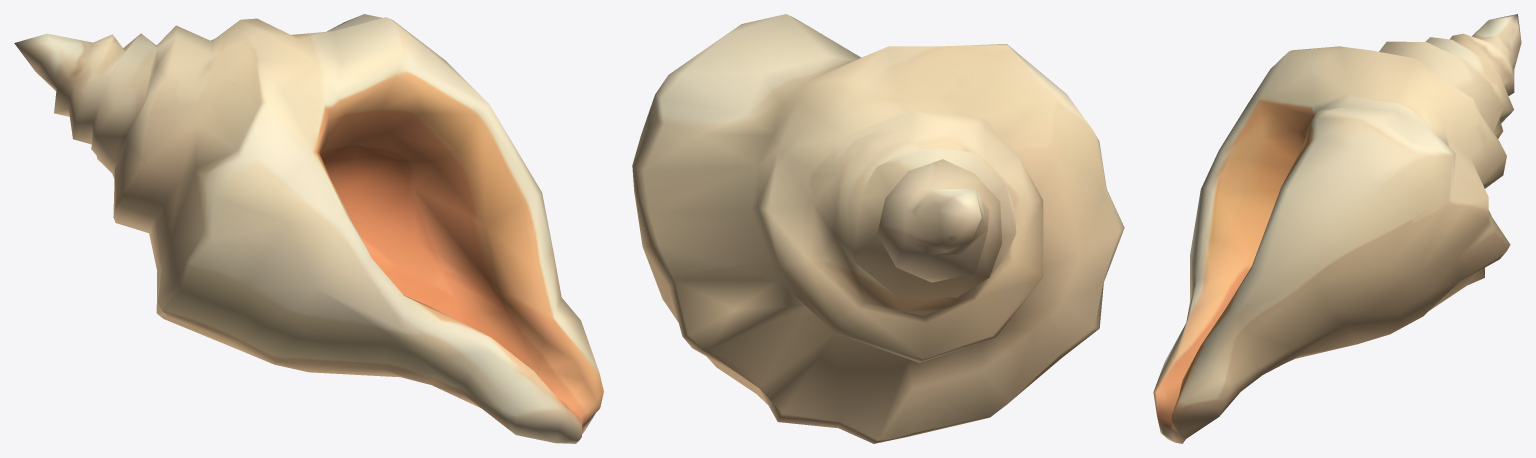
3 views of the same model, side by side, from view 1: azimuth 30°, elevation 25°; view 2: azimuth 150°, elevation 25°; view 3: azimuth 270°, elevation 25° (orthographic). The views are drawn at different scales.
Parts seen in each view (by area): view 1: coast-conch; view 2: coast-conch; view 3: coast-conch.
Boxes of the visible parts, x1,y1,x2,y2 form: coast-conch: (14, 14, 603, 443); coast-conch: (632, 14, 1124, 443); coast-conch: (1153, 14, 1521, 443).
Size of the model in its own units: 0.2035 by 0.184 by 0.1977.
1 material, 1 textured.
